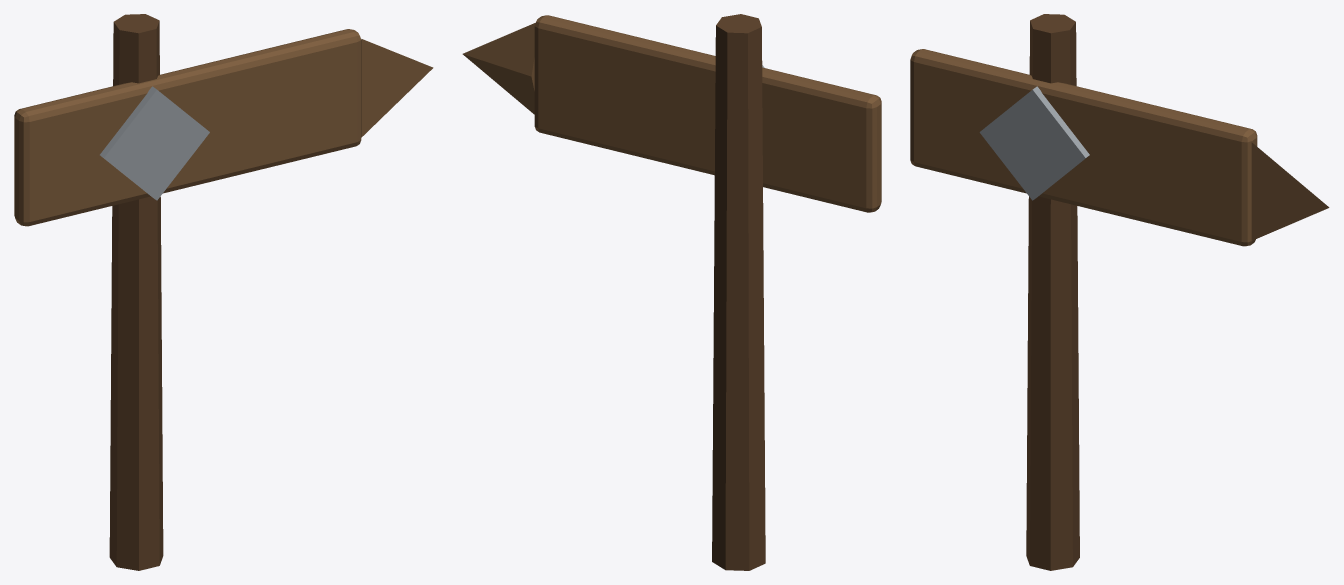
The model's file is signpost.glb.
The picture shows the model from 3 angles, left to right: view 1: azimuth 30°, elevation 25°; view 2: azimuth 150°, elevation 25°; view 3: azimuth 330°, elevation 25°; orthographic projection.
Visible parts, largest first — view 1: post, marker; view 2: post; view 3: post, marker.
Part boxes in pixels (x1,y1,x2,y2): post: (14, 14, 433, 570); marker: (100, 86, 209, 200); post: (462, 14, 881, 570); post: (910, 14, 1329, 570); marker: (979, 86, 1089, 200).
Bounding box in the file's own units: 1.22 × 1.5 × 0.172.
